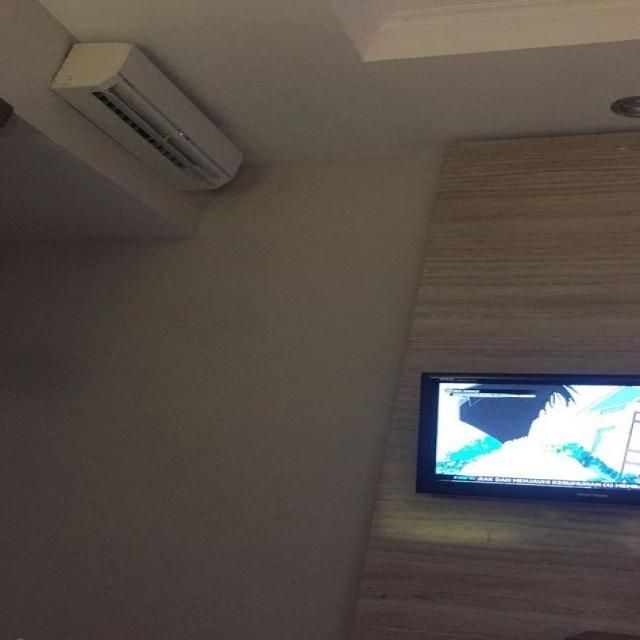AC: (50, 39, 243, 192)
AIO PC-Monitor-TV: (415, 370, 639, 503)
